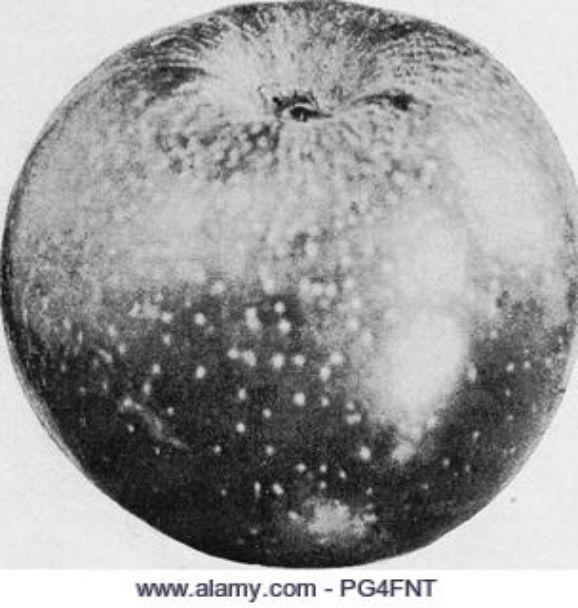SCAB: (28, 44, 537, 538)
